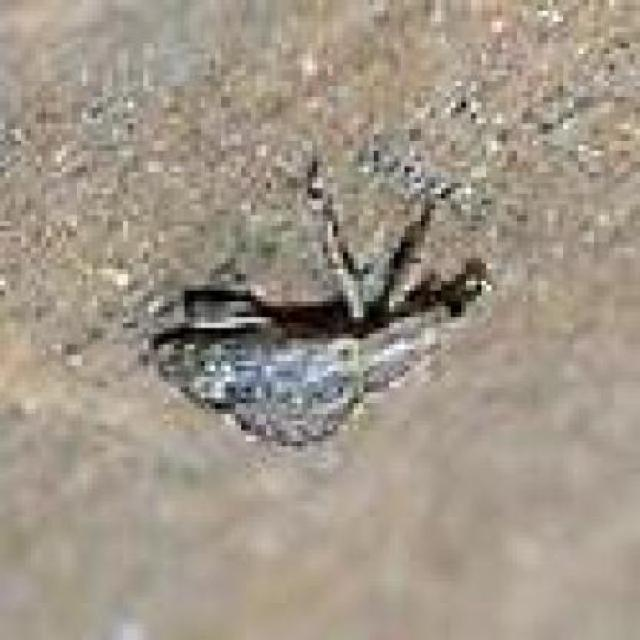rice-bug: (155, 175, 499, 459)
